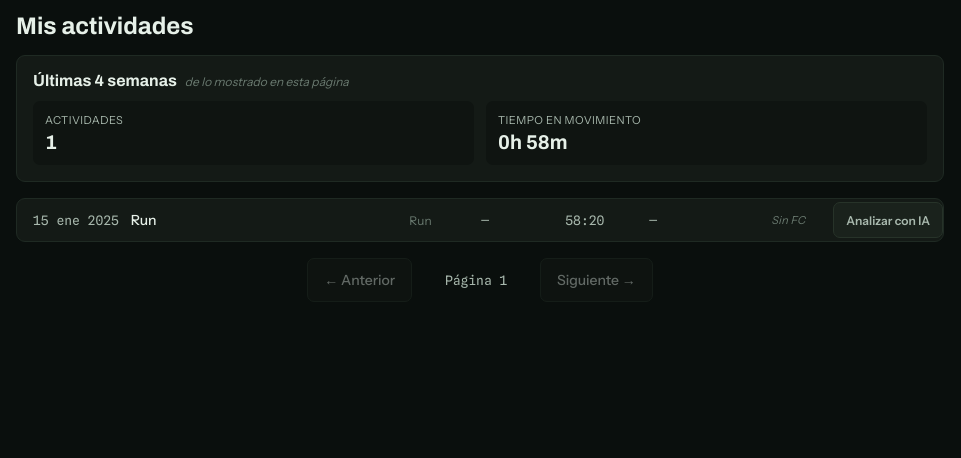
Test: ActivityList › explains that the AI is not available and asks for nothing
The image size is (961, 458).
What coordinates should you click on to do the following:
click the button with test id "activity-ai-trigger"
I would click on:
 (888, 220)
Its box is [833, 202, 943, 238].
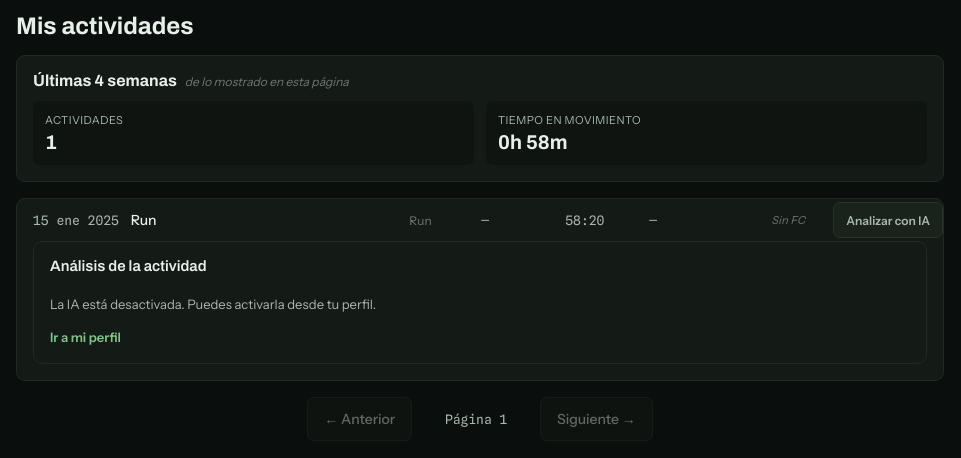
Expected: the message with test id "ai-analysis-unavailable" shows "IA está desactivada", [50, 296, 376, 312]
